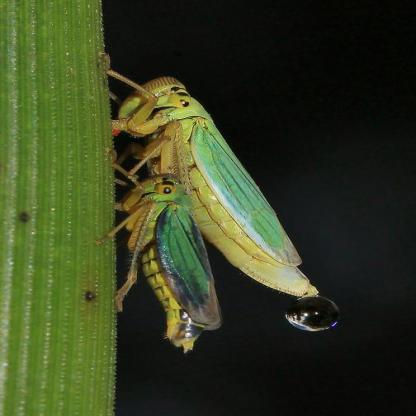Green-Leafhopper: (81, 50, 330, 305), (96, 161, 233, 359)
